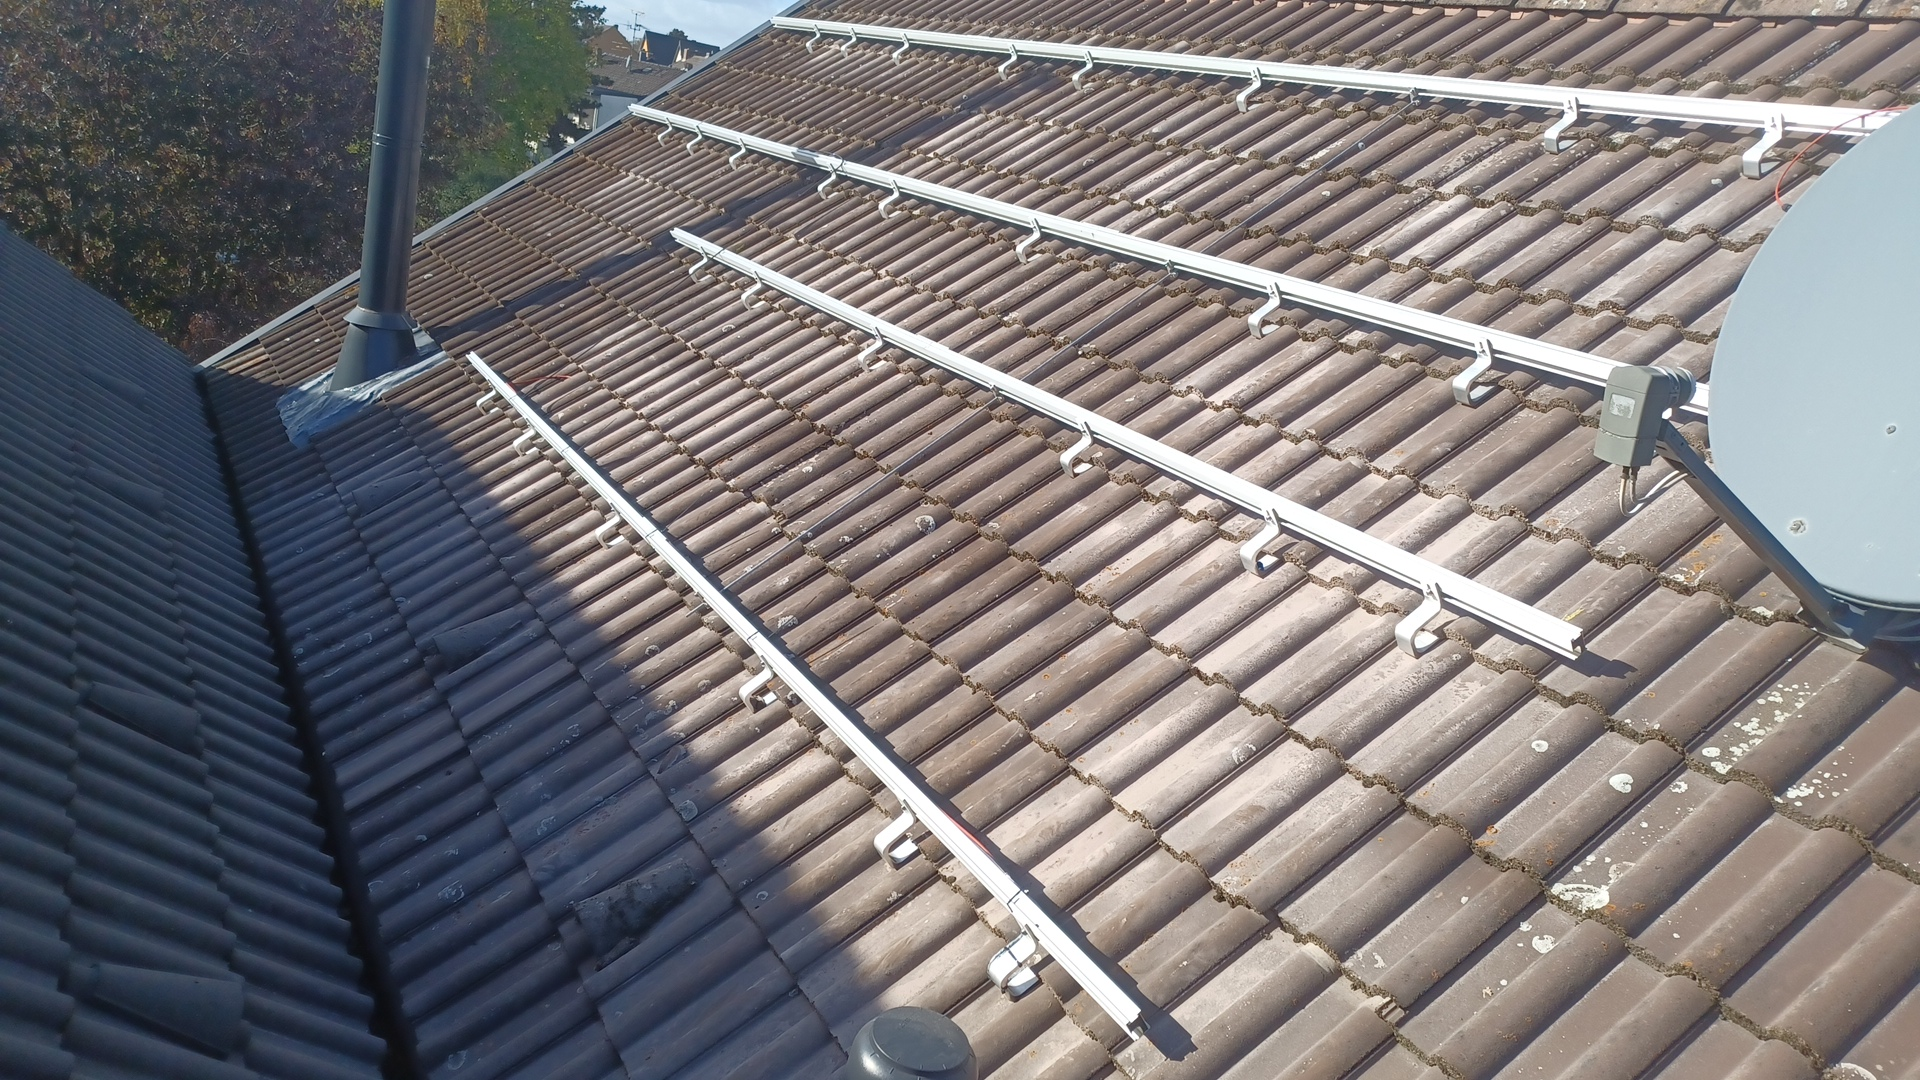hook: (986, 913, 1040, 1001), (1394, 579, 1443, 659), (873, 790, 919, 870), (1452, 336, 1499, 406), (1240, 506, 1280, 576), (1743, 112, 1783, 179), (738, 646, 775, 713), (1060, 417, 1093, 477), (1544, 96, 1578, 154), (1247, 280, 1280, 338), (593, 498, 625, 549), (857, 324, 886, 372), (1236, 67, 1263, 112), (1015, 218, 1042, 264), (513, 414, 539, 456), (1071, 50, 1096, 90), (741, 270, 766, 310), (878, 179, 901, 220), (688, 245, 712, 284), (476, 378, 498, 415), (997, 44, 1018, 80), (818, 164, 839, 199), (728, 136, 746, 171), (891, 33, 910, 66), (804, 22, 822, 54), (840, 26, 857, 58), (687, 125, 704, 156), (657, 117, 673, 146)
